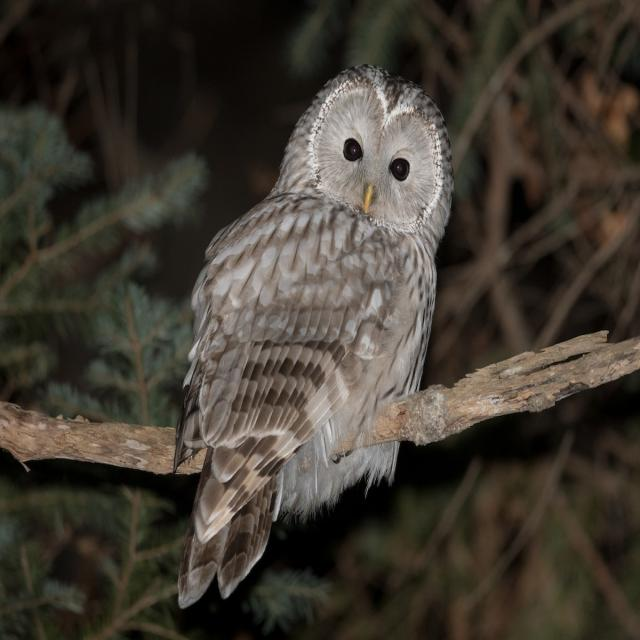uralowl: (125, 61, 528, 614)
